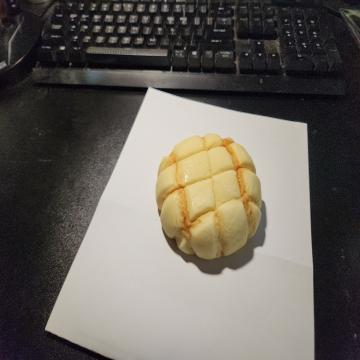melon_bread: (154, 134, 262, 261)
